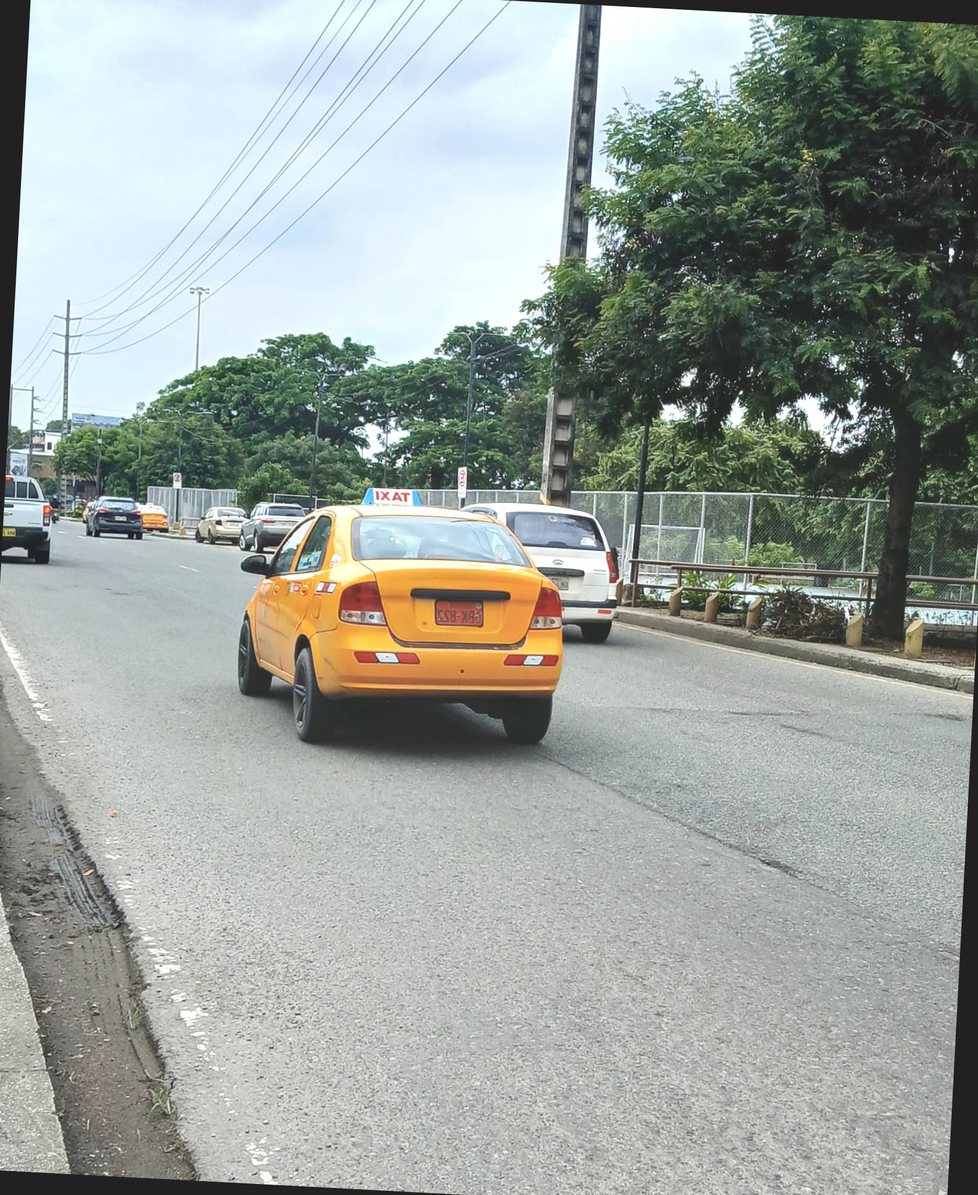license_plate: (434, 598, 487, 627), (551, 579, 570, 588), (3, 527, 17, 536), (114, 515, 128, 520)
